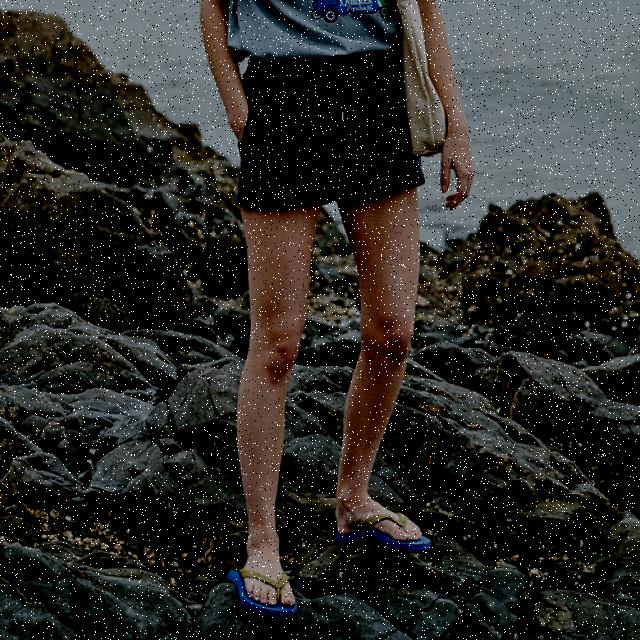Blouse_deep: (224, 59, 409, 200)
